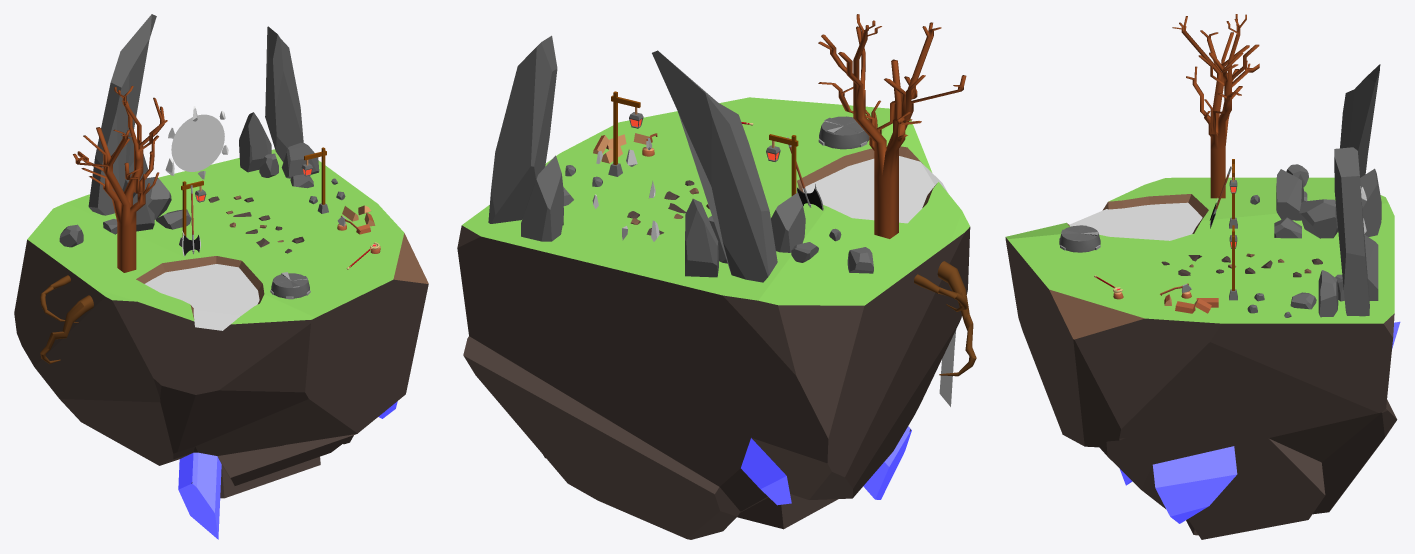
File: portalData.glb
3 renders of one model, left to right at view 1: azimuth 30°, elevation 25°; view 2: azimuth 150°, elevation 25°; view 3: azimuth 270°, elevation 25°, orthographic. The views are drawn at different scales.
Visible parts, largest first — view 1: dirt, grass, tree, rock4.004, water surface, rock4, crystals, Circle, rock4.001, pondWalls, protruding roots, sunDial (+2 smaller); view 2: dirt, grass, rock4.004, rock4, tree, water surface, crystals, rock4.001, rock4.002, protruding roots, rock4.005, sunDial (+2 smaller); view 3: dirt, grass, crystals, rock4, tree, water surface, rock4.004, rock1.001, rock4.005, rock4.002, pondWalls, sunDial (+3 smaller).
Part boxes in pixels (bbox=[...]): dirt: bbox=[14, 239, 428, 498]; grass: bbox=[27, 149, 428, 324]; tree: bbox=[73, 86, 167, 272]; rock4.004: bbox=[88, 14, 156, 215]; water surface: bbox=[145, 264, 259, 330]; rock4: bbox=[265, 26, 303, 162]; crystals: bbox=[178, 401, 397, 539]; Circle: bbox=[171, 114, 224, 171]; rock4.001: bbox=[239, 112, 271, 172]; pondWalls: bbox=[136, 256, 264, 319]; protruding roots: bbox=[40, 275, 93, 363]; sunDial: bbox=[270, 272, 310, 299]; dirt: bbox=[457, 225, 970, 539]; grass: bbox=[462, 97, 969, 305]; rock4.004: bbox=[652, 50, 777, 282]; rock4: bbox=[488, 35, 557, 223]; tree: bbox=[818, 14, 966, 238]; water surface: bbox=[802, 156, 955, 406]; crystals: bbox=[741, 426, 911, 505]; rock4.001: bbox=[521, 155, 563, 241]; rock4.002: bbox=[685, 198, 718, 277]; protruding roots: bbox=[914, 261, 976, 376]; rock4.005: bbox=[771, 192, 805, 252]; sunDial: bbox=[818, 116, 869, 149]; dirt: bbox=[1005, 237, 1397, 539]; grass: bbox=[1006, 177, 1394, 339]; crystals: bbox=[1120, 321, 1400, 523]; rock4: bbox=[1334, 147, 1369, 316]; tree: bbox=[1172, 14, 1259, 198]; water surface: bbox=[1069, 202, 1202, 240]; rock4.004: bbox=[1340, 64, 1380, 177]; rock1.001: bbox=[1299, 199, 1338, 238]; rock4.005: bbox=[1276, 169, 1303, 220]; rock4.002: bbox=[1360, 168, 1381, 236]; pondWalls: bbox=[1067, 194, 1208, 233]; sunDial: bbox=[1059, 225, 1100, 252].
Size of the model in its own units: 6.24 by 7.62 by 6.07.
